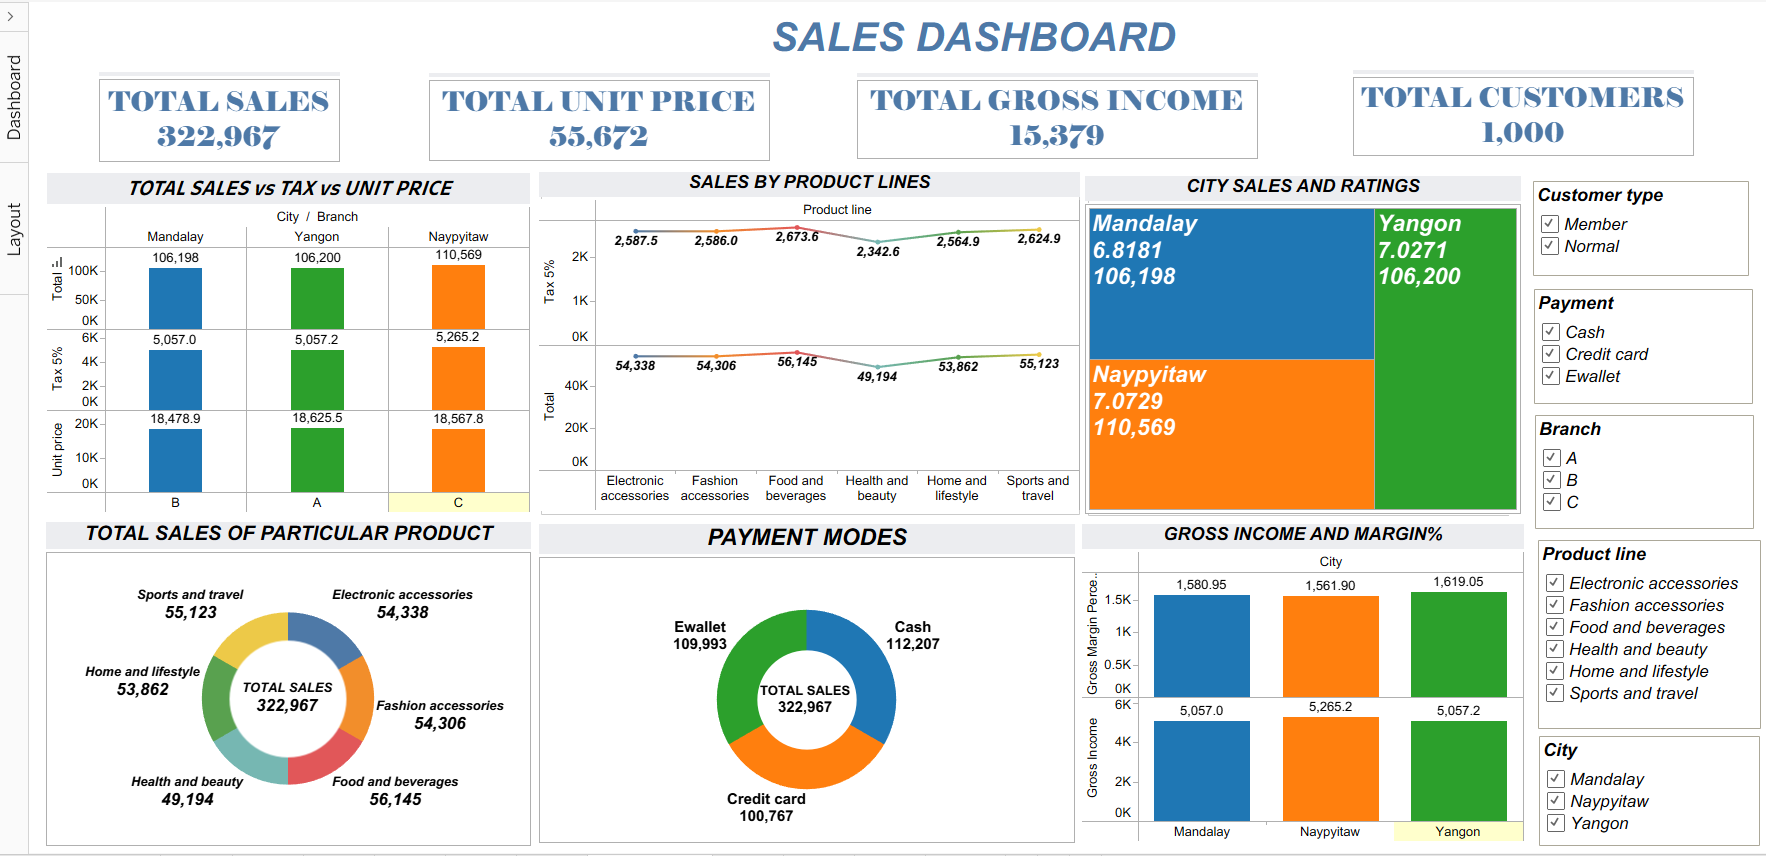

This screenshot's page, from the dashboard's own definition file:
{"tool":"tableau","page":{"name":"Dashboard 1","canvas":[1000,1000],"units":"permille","ordinal":0},"visuals":[{"type":"title","box":[4.2,9.4,991.5,64.6]},{"type":"worksheet","title":"Sheet 10","mark":"Automatic","box":[701.3,79.9,207.1,101.1]},{"type":"worksheet","title":"Sheet 7","mark":"Automatic","box":[37.1,82.3,147.8,105.8]},{"type":"worksheet","title":"Sheet 8","mark":"Automatic","box":[211.9,83.4,205.5,103.4]},{"type":"worksheet","title":"Sheet 9","mark":"Automatic","box":[438.6,83.4,243.1,101.1]},{"type":"worksheet","title":"Sheet 2","mark":"Line","rows":["Tax 5%","Total"],"cols":["Product line"],"box":[270.4,199.8,286.7,399.5]},{"type":"worksheet","title":"Sheet 1","mark":"Automatic","rows":["Total","Tax 5%","Unit price"],"cols":["City","Branch"],"box":[9.7,200.9,255.9,399.5]},{"type":"worksheet","title":"Sheet 6","mark":"Automatic","box":[559.4,204.5,231.1,397.2]},{"type":"filter","title":"Sheet 4","param":"[federated.0sei80g1g2ugjm10u2won0w5zywf].[none:Customer type:nk]","box":[796.6,210.3,114.7,111.6]},{"type":"filter","title":"Sheet 1","param":"[federated.0sei80g1g2ugjm10u2won0w5zywf].[none:Payment:nk]","box":[797.2,337.2,115.9,135.1]},{"type":"filter","title":"Sheet 2","param":"[federated.0sei80g1g2ugjm10u2won0w5zywf].[none:Branch:nk]","box":[797.8,485.3,115.9,134]},{"type":"worksheet","title":"Sheet 5","mark":"Pie","cols":["Calculation_0744386143461401","Calculation_0744386143498267"],"box":[9.1,611.1,257.1,380.7]},{"type":"worksheet","title":"Sheet 4","mark":"Pie","cols":["Calculation_0744386141093909","Calculation_0744386141118487"],"box":[270.4,613.4,283.7,374.9]},{"type":"worksheet","title":"Sheet 3","mark":"Bar","rows":["gross margin percentage","gross income"],"cols":["City"],"box":[557.6,613.4,234.2,373.7]},{"type":"filter","title":"Sheet 4","param":"[federated.0sei80g1g2ugjm10u2won0w5zywf].[none:Product line:nk]","box":[799,632.2,118.3,222.1]},{"type":"filter","title":"Sheet 3","param":"[federated.0sei80g1g2ugjm10u2won0w5zywf].[none:City:nk]","box":[799.6,862.5,117.1,129.3]}]}

Visuals, with their boxes on the dashboard's canvas, which has no fixed pixel size, in thousandths of its width and height (x1, y1, x2, y2). These are canvas units, not pixel positions in the 1766x856 screenshot, which may show the page scaled, cropped or inside an application window:
title: 4/9/996/74
"Sheet 10" worksheet: 701/80/908/181
"Sheet 7" worksheet: 37/82/185/188
"Sheet 8" worksheet: 212/83/417/187
"Sheet 9" worksheet: 439/83/682/184
"Sheet 2" worksheet (Line marks): 270/200/557/599
"Sheet 1" worksheet: 10/201/266/600
"Sheet 6" worksheet: 559/204/790/602
"Sheet 4" filter: 797/210/911/322
"Sheet 1" filter: 797/337/913/472
"Sheet 2" filter: 798/485/914/619
"Sheet 5" worksheet (Pie marks): 9/611/266/992
"Sheet 4" worksheet (Pie marks): 270/613/554/988
"Sheet 3" worksheet (Bar marks): 558/613/792/987
"Sheet 4" filter: 799/632/917/854
"Sheet 3" filter: 800/862/917/992
